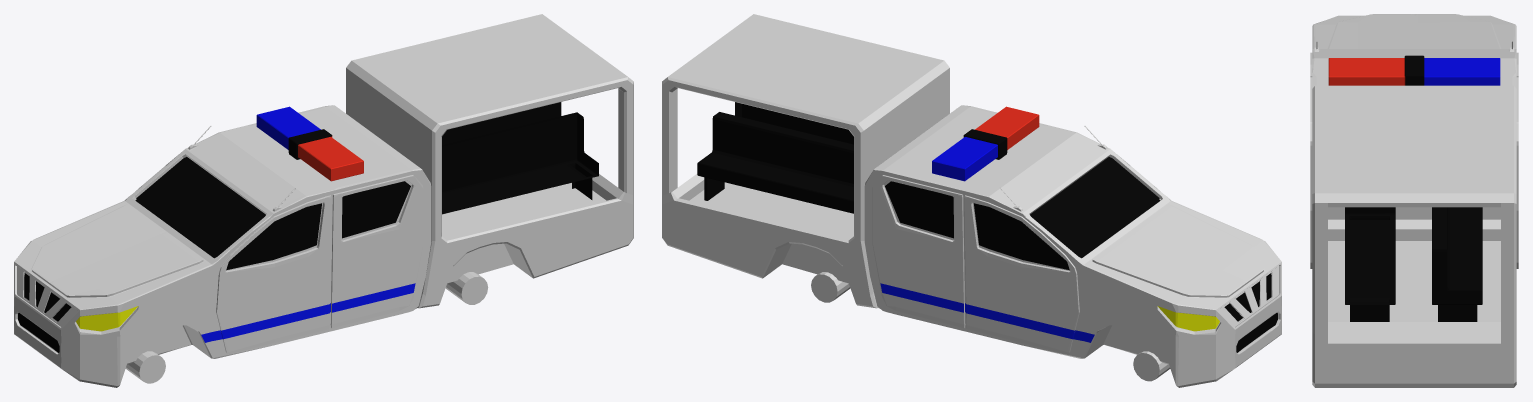
Rendered from Police_Car.fbx.
3 renders of one model, left to right at view 1: azimuth 30°, elevation 25°; view 2: azimuth 150°, elevation 25°; view 3: azimuth 270°, elevation 25°, orthographic. The views are drawn at different scales.
Parts seen in each view (by area): view 1: Cylinder.002; view 2: Cylinder.002; view 3: Cylinder.002.
Part boxes in pixels (box(x1,y1,x2,y2)): Cylinder.002: box(14, 14, 633, 387); Cylinder.002: box(662, 14, 1281, 387); Cylinder.002: box(1310, 14, 1518, 387).
Bounding box in the file's own units: 516 × 181 × 146.
